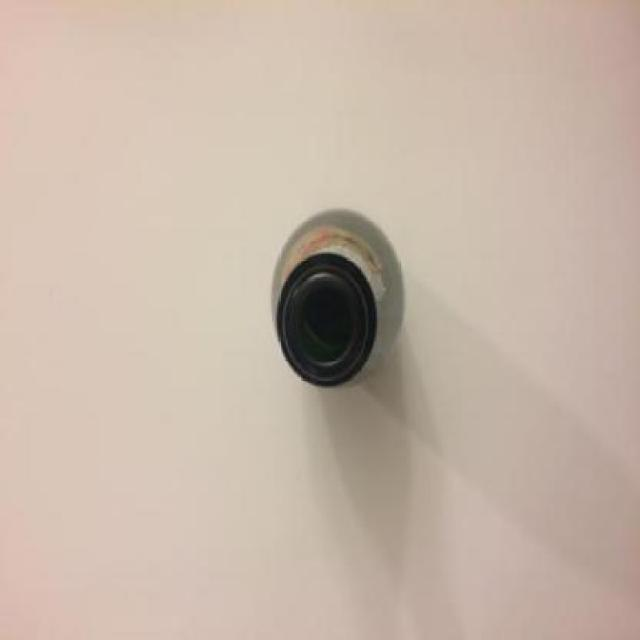kaca: (269, 208, 405, 389)
